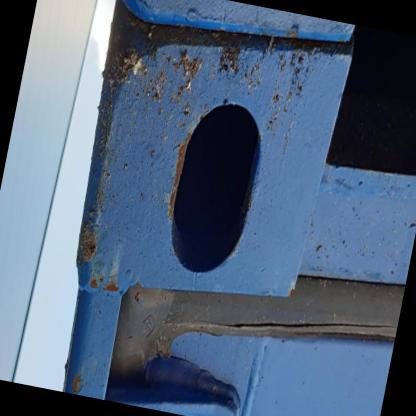CornerCasting: (60, 9, 349, 308)
